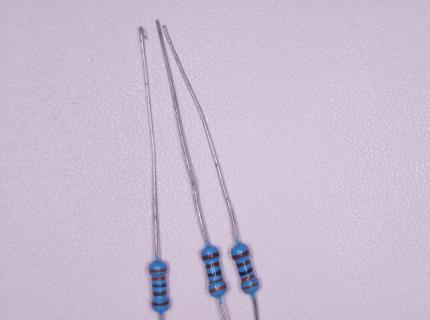Black band: (239, 267, 253, 277), (207, 270, 222, 277), (152, 283, 167, 287)
Brown band: (232, 249, 250, 260), (202, 251, 220, 261), (236, 259, 251, 268), (151, 300, 170, 307), (205, 262, 220, 269), (153, 291, 167, 296)
Orange band: (209, 284, 227, 294), (241, 282, 260, 290), (241, 274, 256, 283), (209, 277, 224, 285), (149, 268, 167, 273), (152, 276, 166, 281)
